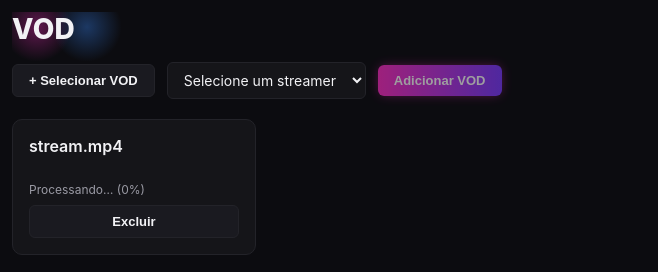
it: VodPage › opens the native file picker and fills in the selected path when clicking Selecionar VOD
This screenshot has width=658, height=272.
Expected: the heading "stream.mp4" is shown, x1=29 y1=136 x2=123 y2=156
Click the button "+ Selecionar VOD" at point(83, 80), box x1=12 y1=64 x2=155 y2=97
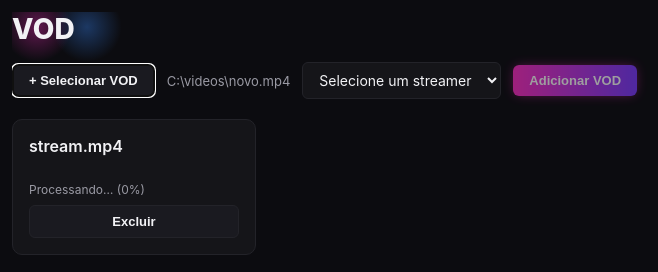
Expected: the text "C:\\videos\\novo.mp4" is shown, x1=167 y1=72 x2=290 y2=88
